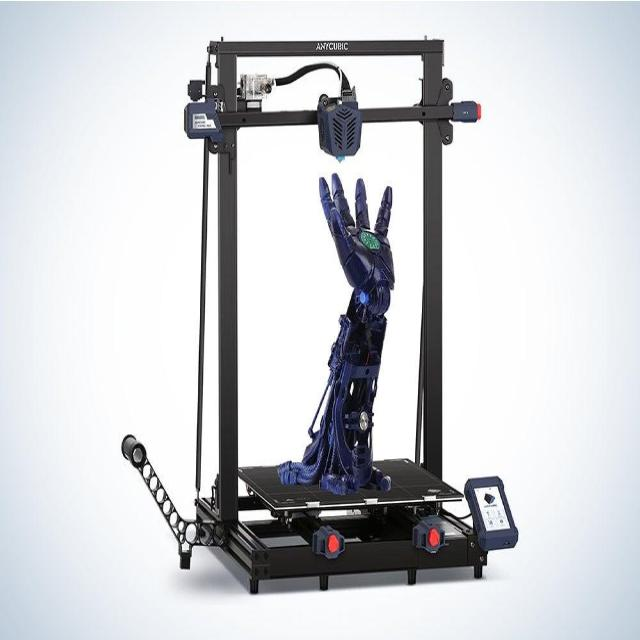Without deffect: (283, 154, 408, 502)
